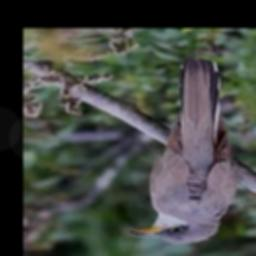Cuckoo: (129, 58, 237, 245)
